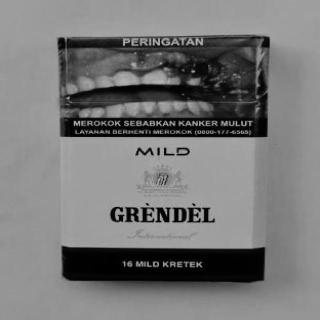objects: (58, 35, 269, 282)
